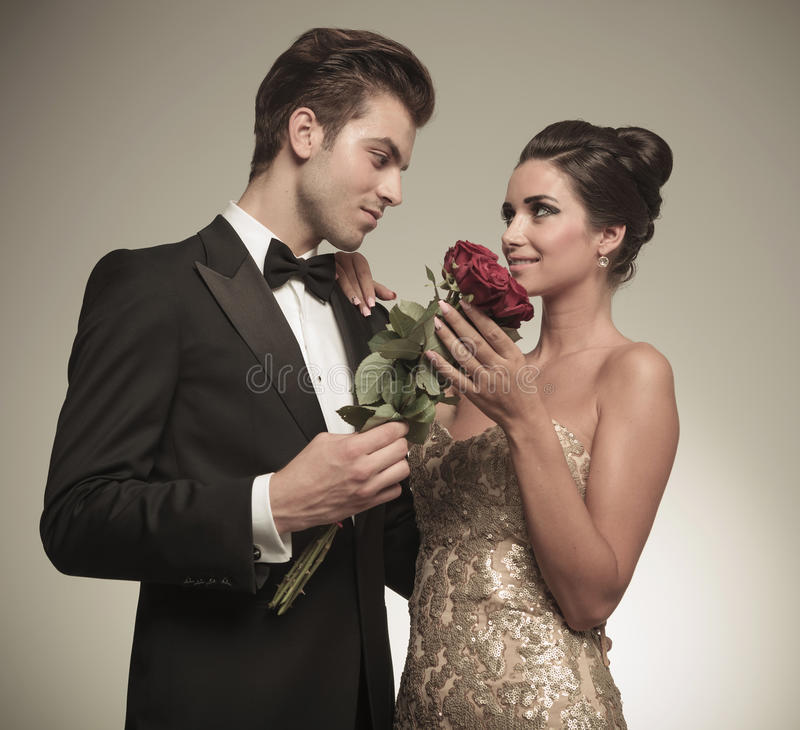RedRose: (452, 254, 514, 304)
